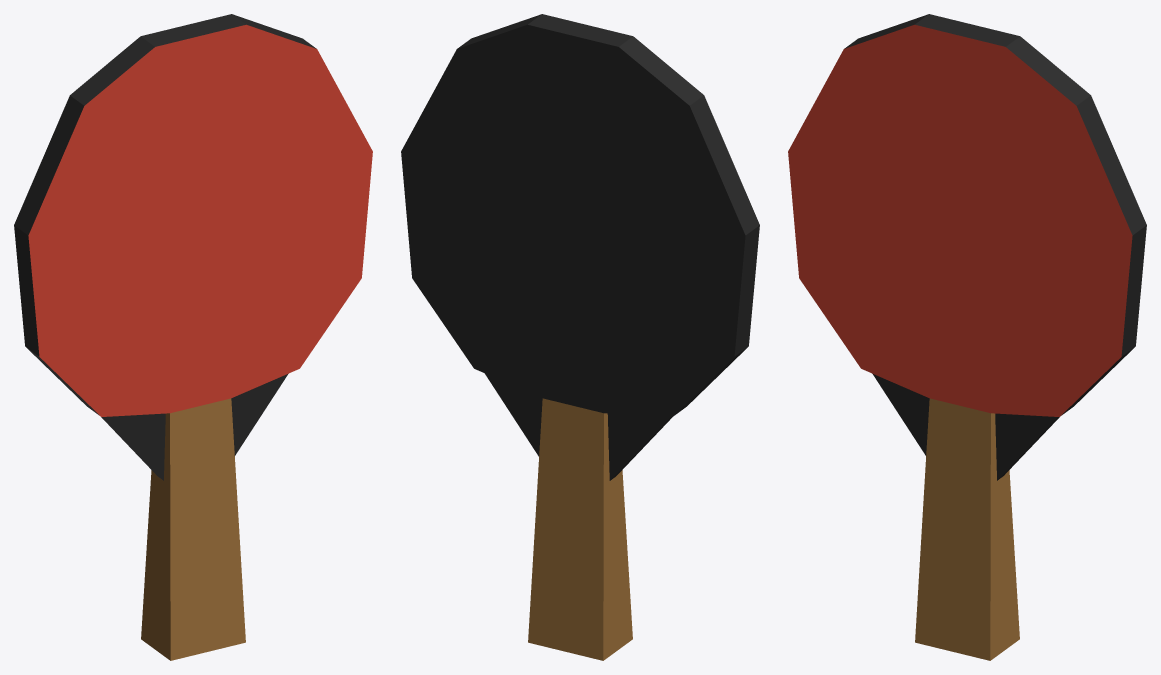
The model's file is sport_table-tennis-bat.fbx.
The picture shows the model from 3 angles, left to right: view 1: azimuth 30°, elevation 25°; view 2: azimuth 150°, elevation 25°; view 3: azimuth 330°, elevation 25°; orthographic projection.
Visible parts, largest first — view 1: sport_table_tennis_bat; view 2: sport_table_tennis_bat; view 3: sport_table_tennis_bat.
Part boxes in pixels (box(x1,y1,x2,y2)): sport_table_tennis_bat: box(14, 14, 372, 660); sport_table_tennis_bat: box(401, 14, 759, 660); sport_table_tennis_bat: box(788, 14, 1146, 660).
Size of the model in its own units: 118 by 200 by 17.6.
